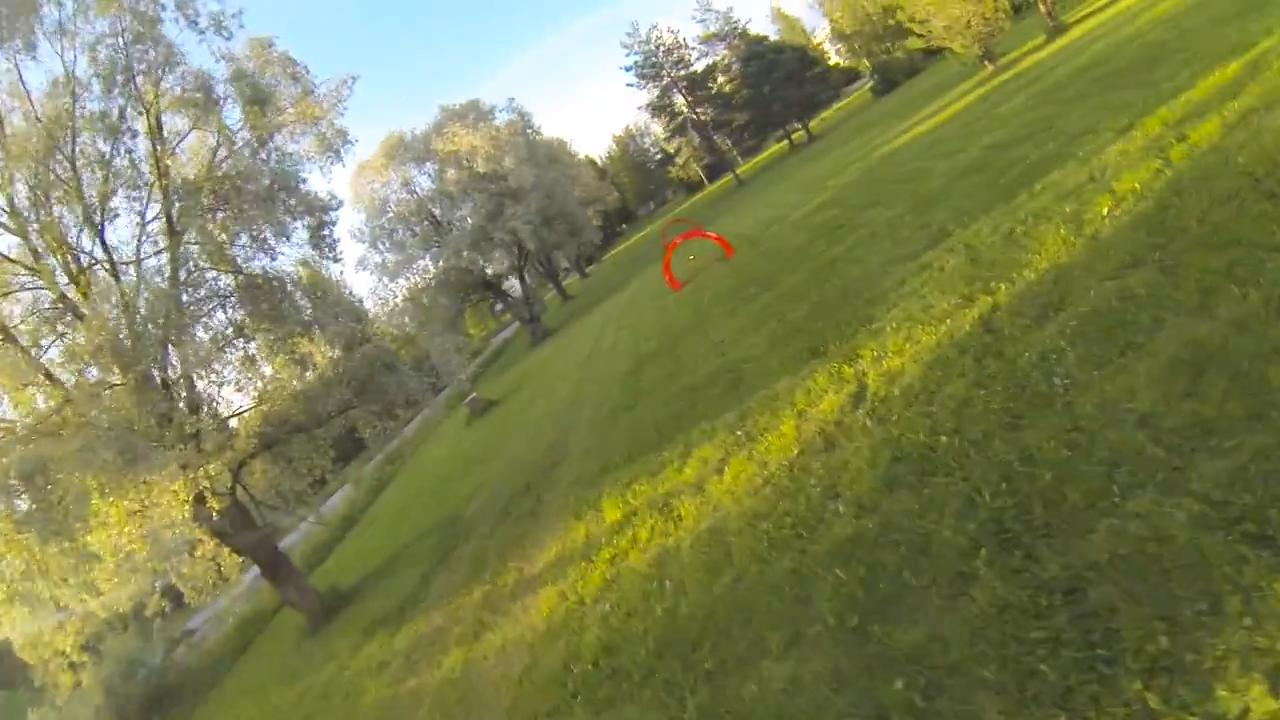gate: (661, 229, 735, 292)
